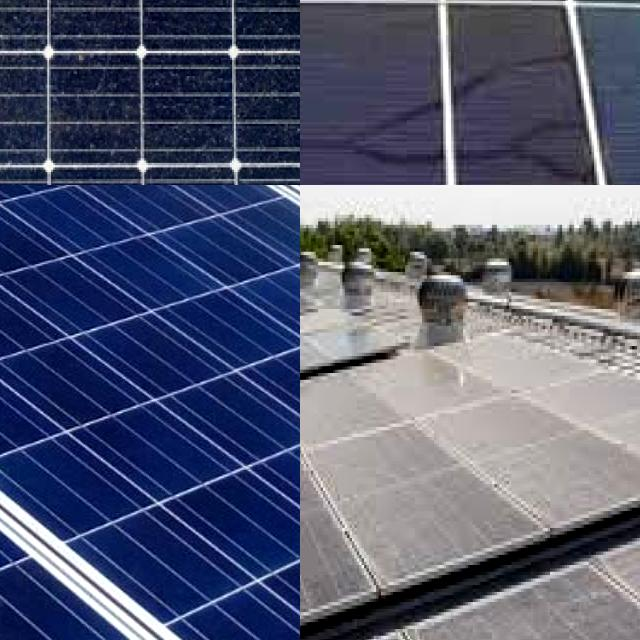crack: (0, 185, 300, 640)
dust: (0, 80, 234, 185), (499, 389, 640, 493), (353, 452, 474, 550), (0, 0, 223, 50), (300, 482, 380, 604), (236, 0, 300, 147), (0, 0, 43, 76), (0, 0, 44, 52)
shadow: (448, 17, 575, 185), (300, 65, 440, 185)
